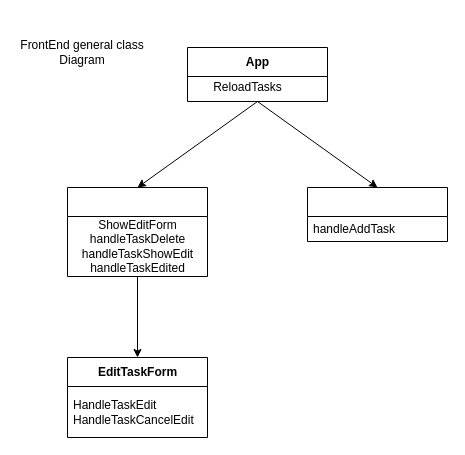
This 465x455 diagram has some shape labels left out. The shapes that lost their labels are listed below. From the top down, each one's box as (x1, y1, x2, y2) in pixels, then its label:
(66, 186, 208, 276): TaskContainer
(306, 186, 448, 242): AddTaskForm
